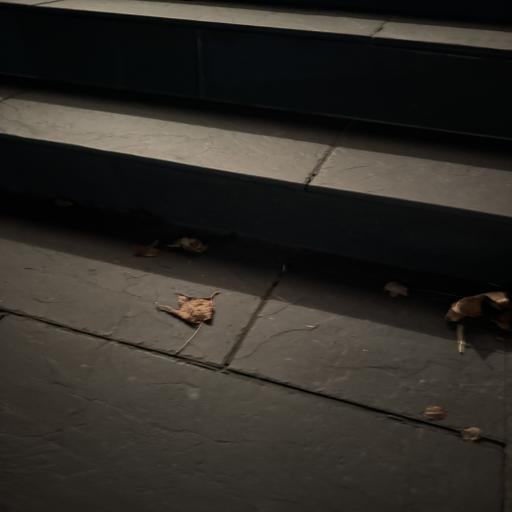debris: (446, 291, 512, 354), (155, 292, 220, 354), (167, 237, 207, 253), (134, 240, 158, 257), (384, 282, 408, 297), (423, 406, 445, 420), (462, 426, 481, 440)
stairs: (0, 0, 512, 380)
